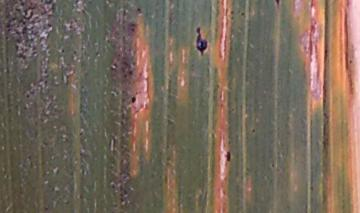tarspot: (192, 23, 211, 58), (223, 146, 233, 164), (128, 92, 137, 104), (249, 126, 257, 135), (270, 160, 277, 169), (239, 10, 247, 17), (274, 1, 281, 7)
